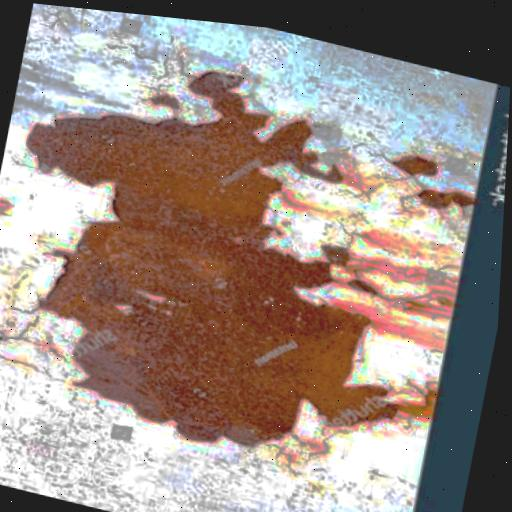corrosion: (0, 20, 464, 509)
